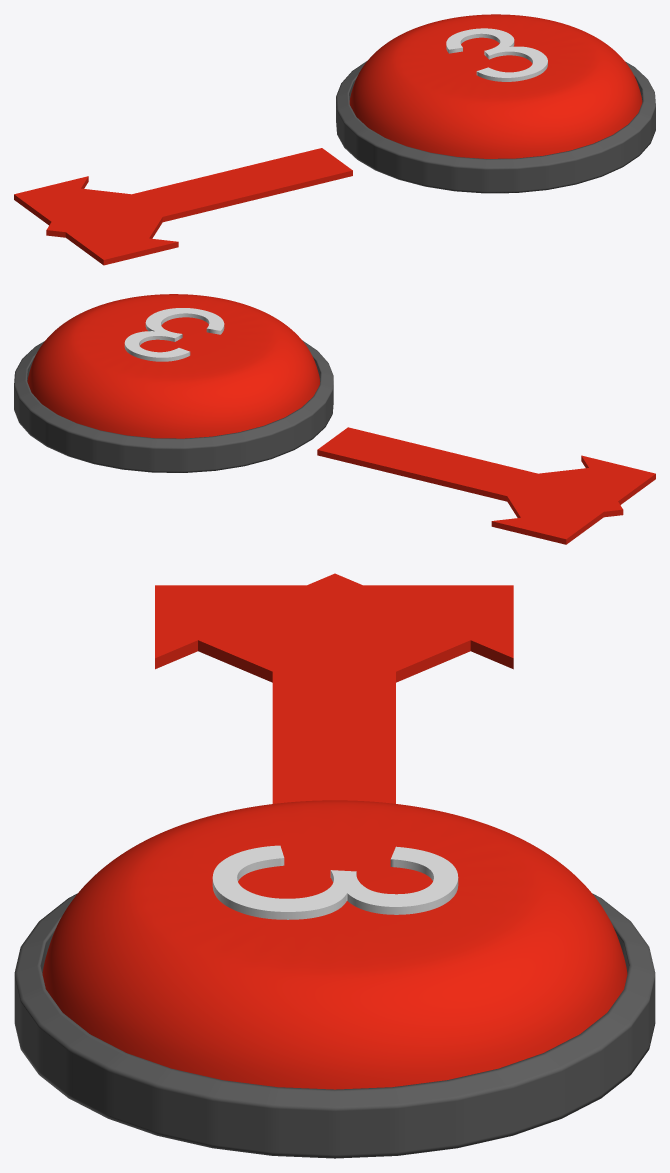
Rendered from Red Button _V01b.fbx.
The picture shows the model from 3 angles, top to bottom: view 1: azimuth 30°, elevation 25°; view 2: azimuth 150°, elevation 25°; view 3: azimuth 270°, elevation 25°; orthographic projection. The views are drawn at different scales.
Parts seen in each view (by area): view 1: Button_Red.001, Button_Base_Red, Arrow_Bend Down_Red, Arrow_Bend Up_Red, Arrow_Straight_Red.; view 2: Button_Red.001, Button_Base_Red, Arrow_Bend Up_Red, Arrow_Bend Down_Red, Arrow_Straight_Red.; view 3: Button_Red.001, Button_Base_Red, Arrow_Straight_Red., Arrow_Bend Down_Red, Arrow_Bend Up_Red.
Part boxes in pixels (x1,y1,x2,y2): Button_Red.001: (349,14,642,158); Button_Base_Red: (336,61,655,193); Arrow_Bend Down_Red: (65,148,334,265); Arrow_Bend Up_Red: (14,155,352,225); Arrow_Straight_Red.: (46,148,333,239); Button_Red.001: (27,294,319,438); Button_Base_Red: (14,340,333,472); Arrow_Bend Up_Red: (318,427,603,544); Arrow_Bend Down_Red: (317,450,655,504); Arrow_Straight_Red.: (317,444,623,518); Button_Red.001: (42,800,627,1089); Button_Base_Red: (14,893,655,1158); Arrow_Straight_Red.: (213,573,456,803); Arrow_Bend Down_Red: (155,585,395,802); Arrow_Bend Up_Red: (272,585,513,803).
Size of the model in its own units: 445 by 52.55 by 210.
